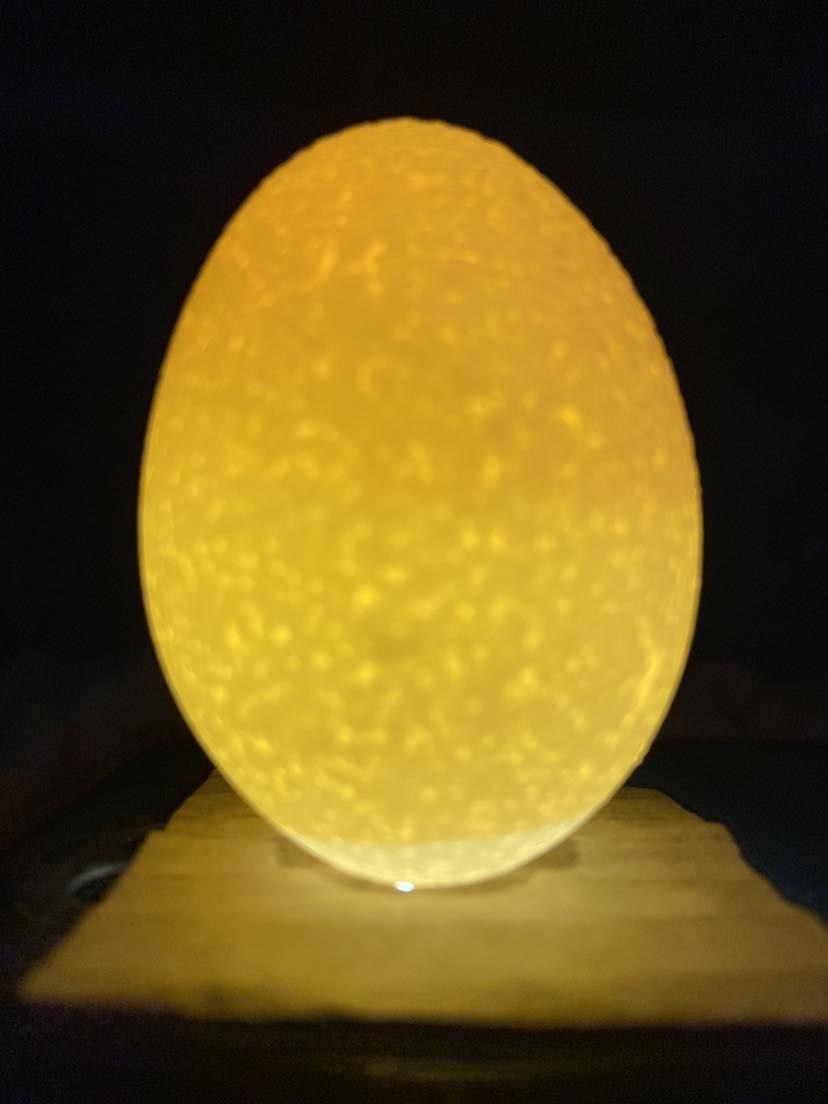A - Good: (135, 107, 712, 908)
